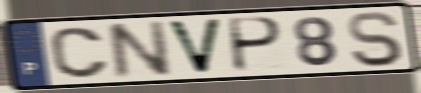8: (292, 15, 341, 68)
C: (47, 25, 113, 81)
N: (103, 18, 174, 82)
P: (229, 15, 285, 75)
S: (345, 9, 405, 69)
V: (163, 17, 224, 76)
